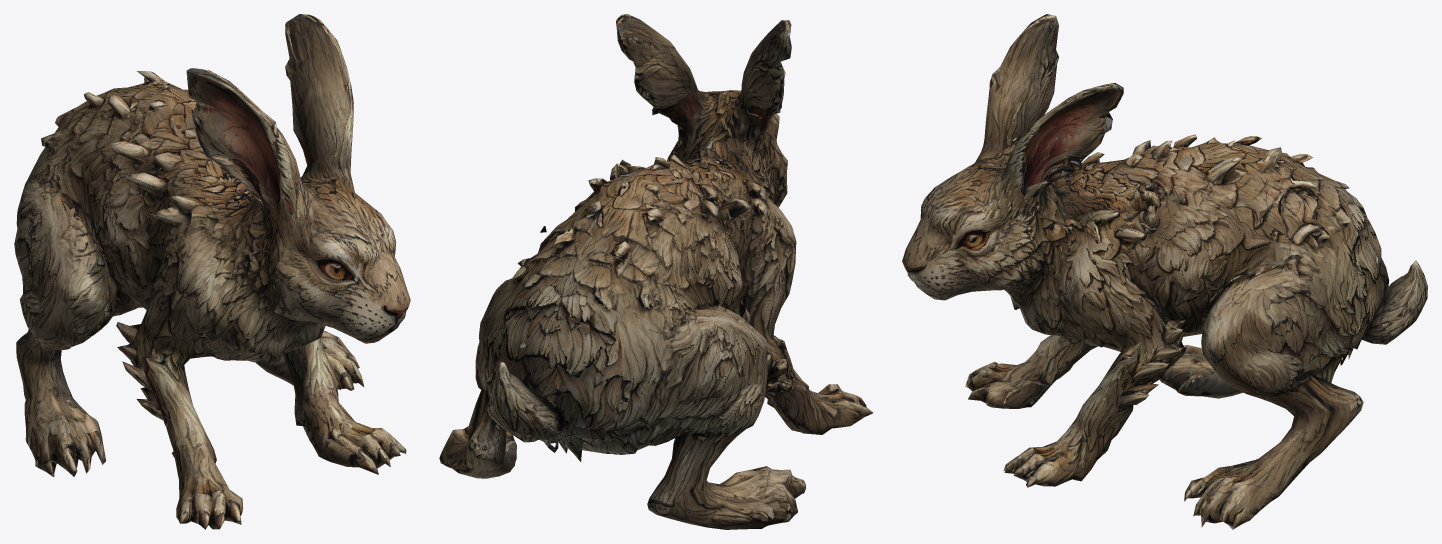
The model's file is Rabbit.glb.
3 views of the same model, side by side, from view 1: azimuth 30°, elevation 25°; view 2: azimuth 150°, elevation 25°; view 3: azimuth 270°, elevation 25° (orthographic). The views are drawn at different scales.
Parts seen in each view (by area): view 1: texture_mapping; view 2: texture_mapping; view 3: texture_mapping.
Part boxes in pixels (box(x1,y1,x2,y2)): texture_mapping: box(14, 14, 410, 529); texture_mapping: box(439, 14, 872, 529); texture_mapping: box(902, 14, 1427, 529).
Size of the model in its own units: 0.6683 by 0.8358 by 0.9866.
Materials: 1 (1 with a texture image).
